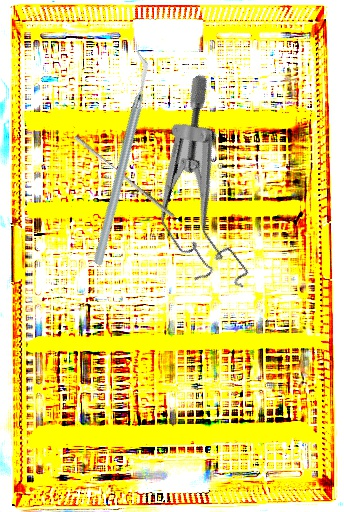Chopper: (19, 49, 221, 268)
Pusher: (71, 134, 178, 219)
Speculum: (102, 71, 312, 309)
